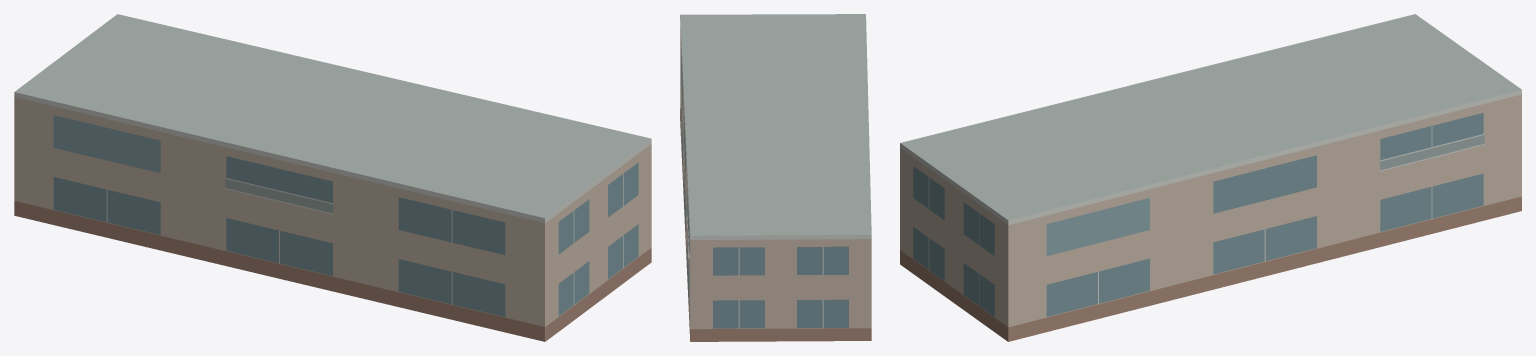
File: survey-upis-32470671.glb
3 views of the same model, side by side, from view 1: azimuth 30°, elevation 25°; view 2: azimuth 150°, elevation 25°; view 3: azimuth 270°, elevation 25° (orthographic). The views are drawn at different scales.
Visible parts, largest first — view 1: survey-upis-32470671.tmp; view 2: survey-upis-32470671.tmp; view 3: survey-upis-32470671.tmp.
Boxes of the visible parts, <box> form: survey-upis-32470671.tmp: <box>14,14,651,341</box>; survey-upis-32470671.tmp: <box>680,14,871,341</box>; survey-upis-32470671.tmp: <box>900,14,1521,341</box>.
Bounding box in the file's own units: 22.23 × 6.1 × 28.3.
